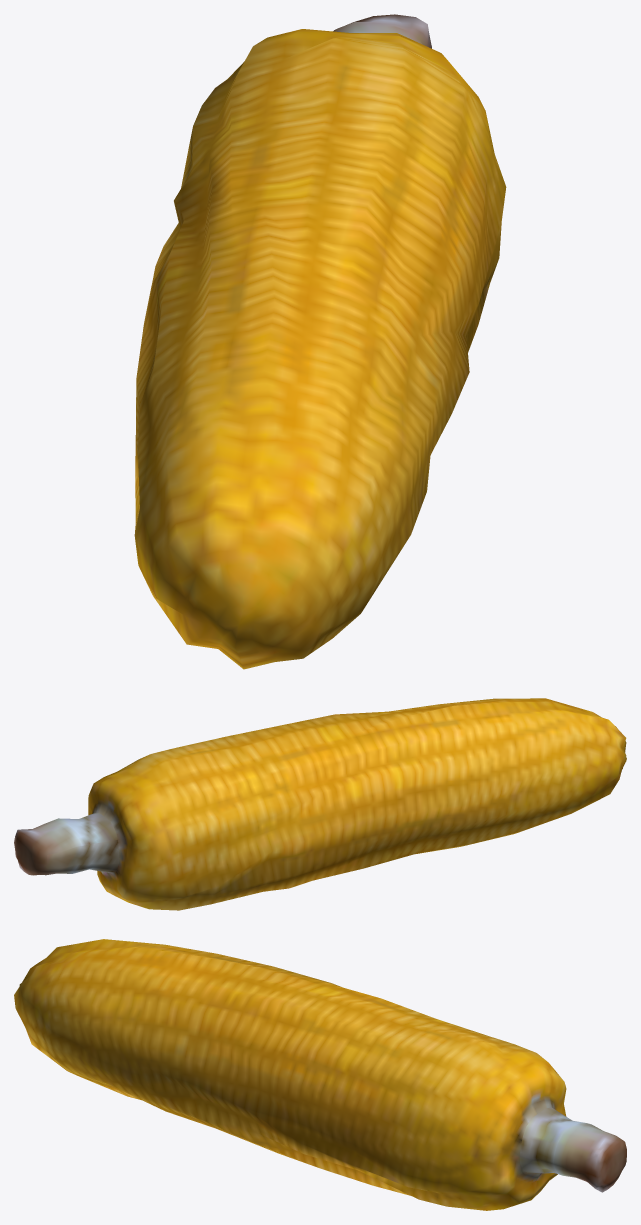
File: Corn.glb
3 views of the same model, one above another, from view 1: azimuth 30°, elevation 25°; view 2: azimuth 150°, elevation 25°; view 3: azimuth 270°, elevation 25° (orthographic). The views are drawn at different scales.
Visible parts, largest first — view 1: SM_corn__SM_corn_0; view 2: SM_corn__SM_corn_0; view 3: SM_corn__SM_corn_0.
Part boxes in pixels (x1,y1,x2,y2): SM_corn__SM_corn_0: [134, 14, 506, 669]; SM_corn__SM_corn_0: [14, 698, 626, 910]; SM_corn__SM_corn_0: [14, 939, 626, 1210].
Bounding box in the file's own units: 1.66 × 0.631 × 2.13.
Materials: 1 (1 with a texture image).
